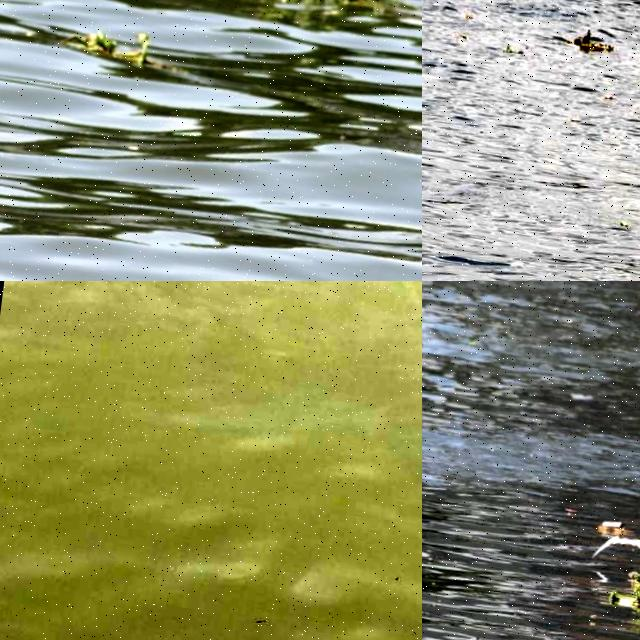water-hyacinth: (246, 1, 404, 47), (71, 24, 154, 66), (574, 25, 610, 55)
